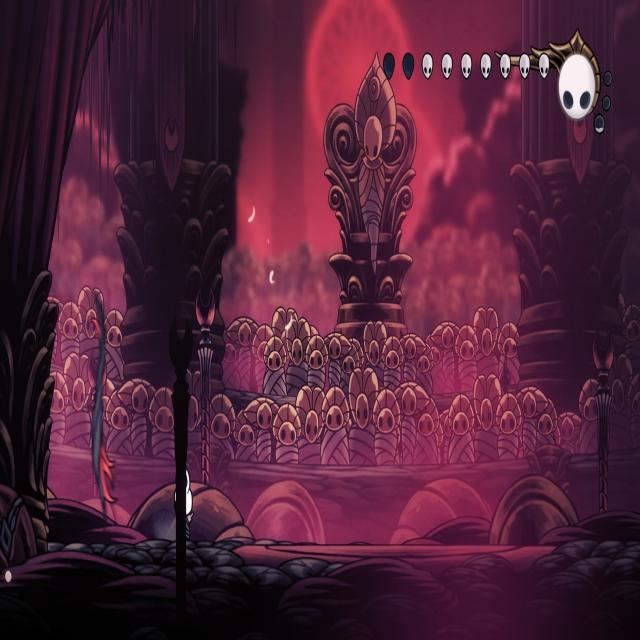Player: (170, 459, 196, 541)
